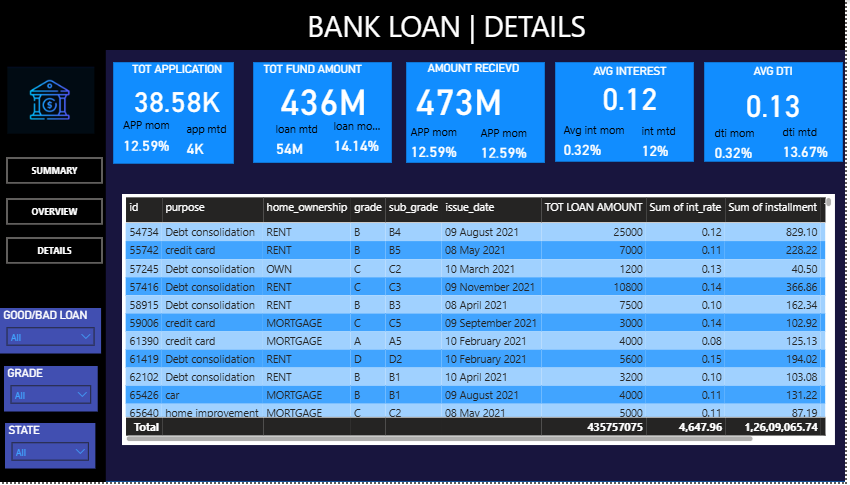

The page's visual inventory and layout, read from the dashboard file:
{"tool":"powerbi","page":{"name":"DETAILS","canvas":[1280,720],"ordinal":2},"visuals":[{"type":"shape","box":[10.5,0,1269.7,720],"z":0},{"type":"card","title":"TOT APPLICATION","fields":{"Values":["date.TOTAL APPLICATION"]},"box":[183.9,92.1,194.1,90.8],"z":0,"group":"g1"},{"type":"card","title":"TOT FUND AMOUNT","fields":{"Values":["date.TOT LOAN AMOUNT"]},"box":[404.8,92.1,188.8,87.4],"z":0,"group":"g5"},{"type":"card","title":"AVG INTEREST","fields":{"Values":["date.avg int"]},"box":[861.9,95.2,190.5,76.2],"z":0,"group":"g3"},{"type":"card","title":"AVG DTI","fields":{"Values":["date.Avg dti"]},"box":[1082.5,95.2,176.2,95.2],"z":0,"group":"g4"},{"type":"shape","box":[10.5,0,1269.7,74.7],"z":1000},{"type":"cardVisual","fields":{"Data":["date.APP mom"]},"box":[182.5,172.7,112.6,60.1],"z":1000,"group":"g1"},{"type":"cardVisual","fields":{"Data":["date.dti mtd"]},"box":[1168.2,184.1,107.1,55.3],"z":1000,"group":"g4"},{"type":"shape","box":[10.5,61.2,164.3,658.8],"z":2000},{"type":"cardVisual","fields":{"Data":["date.app mtd"]},"box":[277.7,176.9,127.4,60.1],"z":2000,"group":"g1"},{"type":"cardVisual","fields":{"Data":["date.dti mom"]},"box":[1066.7,184.1,107.1,56.9],"z":2000,"group":"g4"},{"type":"shape","box":[185.2,92.6,180.7,152.4],"z":3000},{"type":"shape","box":[394.4,92.6,207.6,150.9],"z":4000},{"type":"shape","box":[622.9,92.6,207.6,150.9],"z":5000},{"type":"shape","box":[845.5,92.6,207.6,149.4],"z":6000},{"type":"shape","box":[1068,92.6,207.6,149.4],"z":7000},{"type":"cardVisual","fields":{"Data":["date.avg int mom"]},"box":[841.3,179.3,127.8,60.8],"z":7000,"group":"g3"},{"type":"cardVisual","fields":{"Data":["date.int mtd"]},"box":[958.1,181.2,110.2,57.1],"z":8000,"group":"g3"},{"type":"slicer","title":"GOOD/BAD LOAN","fields":{"Values":["financial_loan.GOOD/BAD LOAN"]},"box":[15.9,460.3,150.8,68.3],"z":8000},{"type":"cardVisual","fields":{"Data":["date.APP mom"]},"box":[716.5,186.8,110.2,54.3],"z":9000,"group":"g2"},{"type":"slicer","title":"GRADE","fields":{"Values":["financial_loan.grade"]},"box":[22.2,546,139.7,68.3],"z":9000},{"type":"cardVisual","fields":{"Data":["date.APP mom"]},"box":[612.7,183.6,105.7,57.8],"z":10000,"group":"g2"},{"type":"slicer","title":"STATE","fields":{"Values":["financial_loan.address_state"]},"box":[23.8,631.7,134.9,68.3],"z":10000},{"type":"image","box":[22.2,81,139.7,136.5],"z":11000},{"type":"tableEx","fields":{"Values":["financial_loan.id","financial_loan.purpose","financial_loan.home_ownership","financial_loan.grade","financial_loan.sub_grade","financial_loan.issue_date","date.TOT LOAN AMOUNT","Sum(financial_loan.int_rate)","Sum(financial_loan.installment)","date.TOTAL PAYMENT"]},"box":[198.4,290.5,1065.1,374.6],"z":12000},{"type":"textbox","box":[469.8,4.8,495.2,87.3],"z":13000},{"type":"cardVisual","fields":{"Data":["date.loan mtd"]},"box":[410.1,176.5,103.2,60.3],"z":13000,"group":"g5"},{"type":"group","id":"g1","title":"Group 2","box":[182.5,92.1,222.2,144.4],"z":14000},{"type":"cardVisual","fields":{"Data":["date.loan mom"]},"box":[496.9,171.1,105.8,62.3],"z":14000,"group":"g5"},{"type":"group","id":"g2","title":"Group 1","box":[612.7,90.5,214.3,150.8],"z":15000},{"type":"group","id":"g3","title":"Group 4","box":[841.3,95.2,227,144.4],"z":16000},{"type":"group","id":"g4","title":"Group 5","box":[1066.7,95.2,207.9,144.4],"z":17000},{"type":"cardVisual","title":"AMOUNT RECIEVD","fields":{"Data":["date.TOTAL PAYMENT"]},"box":[620.4,90.5,207.1,94.6],"z":18000,"group":"g2"},{"type":"group","id":"g5","title":"Group 3","box":[404.8,92.1,198.4,144.4],"z":18000},{"type":"actionButton","box":[25.4,234.5,144.9,40.3],"z":18001},{"type":"actionButton","box":[25.4,295.8,144.9,40.3],"z":18002},{"type":"actionButton","box":[25.4,354,144.9,40.3],"z":18003}]}

Visuals, with their boxes in screenshot pixels (x1, y1, x2, y2), scaled from the page's 1280x720 canvas onto the 850x485 screenshot:
shape: box(7, 0, 849, 484)
"TOT APPLICATION" card: box(122, 62, 251, 123)
"TOT FUND AMOUNT" card: box(269, 62, 394, 121)
"AVG INTEREST" card: box(572, 64, 699, 115)
"AVG DTI" card: box(719, 64, 836, 128)
shape: box(7, 0, 849, 50)
cardVisual - date.APP mom: box(121, 116, 196, 157)
cardVisual - date.dti mtd: box(776, 124, 847, 161)
shape: box(7, 41, 116, 484)
cardVisual - date.app mtd: box(184, 119, 269, 160)
cardVisual - date.dti mom: box(708, 124, 779, 162)
shape: box(123, 62, 243, 165)
shape: box(262, 62, 400, 164)
shape: box(414, 62, 552, 164)
shape: box(561, 62, 699, 163)
shape: box(709, 62, 847, 163)
cardVisual - date.avg int mom: box(559, 121, 644, 162)
cardVisual - date.int mtd: box(636, 122, 709, 161)
"GOOD/BAD LOAN" slicer: box(11, 310, 111, 356)
cardVisual - date.APP mom: box(476, 126, 549, 162)
"GRADE" slicer: box(15, 368, 108, 414)
cardVisual - date.APP mom: box(407, 124, 477, 163)
"STATE" slicer: box(16, 426, 105, 472)
image: box(15, 55, 108, 147)
tableEx - financial_loan.id x financial_loan.purpose: box(132, 196, 839, 448)
textbox: box(312, 3, 641, 62)
cardVisual - date.loan mtd: box(272, 119, 341, 160)
"Group 2" group: box(121, 62, 269, 159)
cardVisual - date.loan mom: box(330, 115, 400, 157)
"Group 1" group: box(407, 61, 549, 163)
"Group 4" group: box(559, 64, 709, 161)
"Group 5" group: box(708, 64, 846, 161)
"AMOUNT RECIEVD" cardVisual: box(412, 61, 550, 125)
"Group 3" group: box(269, 62, 401, 159)
actionButton: box(17, 158, 113, 185)
actionButton: box(17, 199, 113, 226)
actionButton: box(17, 238, 113, 266)
